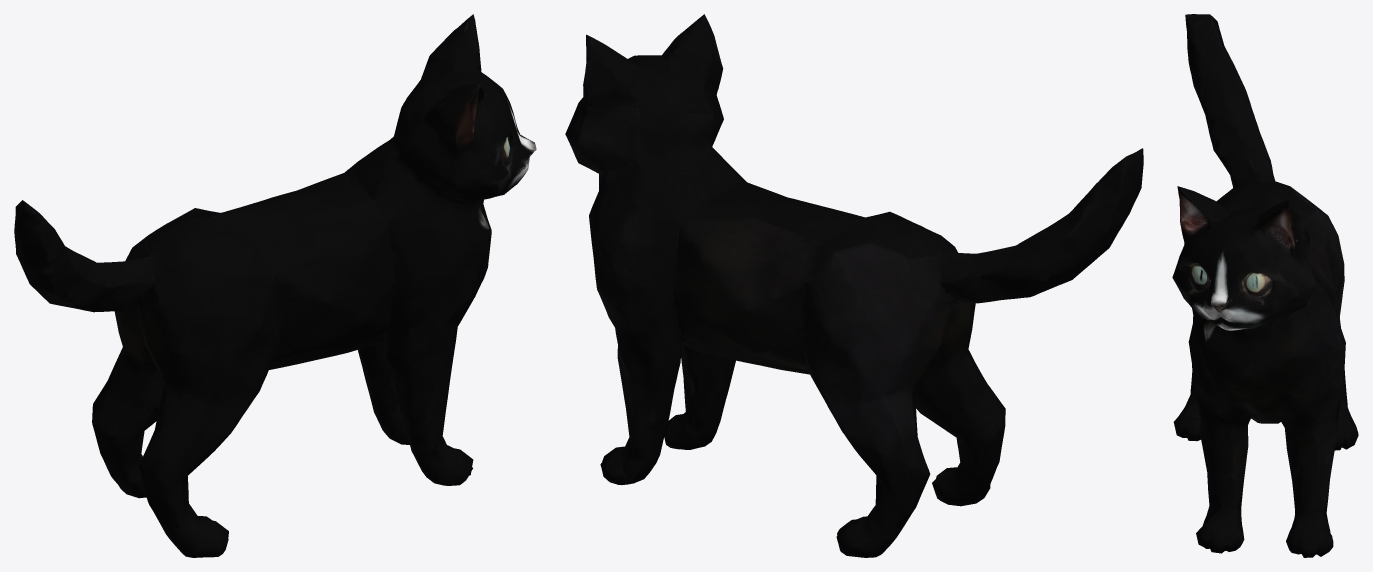
The model's file is WARMSPOT.glb.
3 views of the same model, side by side, from view 1: azimuth 30°, elevation 25°; view 2: azimuth 150°, elevation 25°; view 3: azimuth 270°, elevation 25° (orthographic). The views are drawn at different scales.
Visible parts, largest first — view 1: fit; view 2: fit; view 3: fit.
Part boxes in pixels (x1,y1,x2,y2): fit: (14,14,536,557); fit: (565,14,1143,557); fit: (1172,14,1358,557).
Size of the model in its own units: 1.31 by 1 by 0.4496.
1 material, 1 textured.
